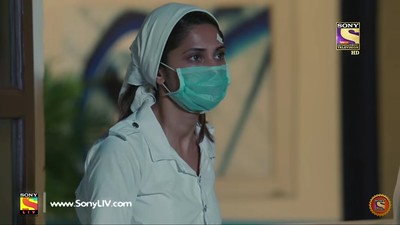surgical: (162, 63, 236, 114)
